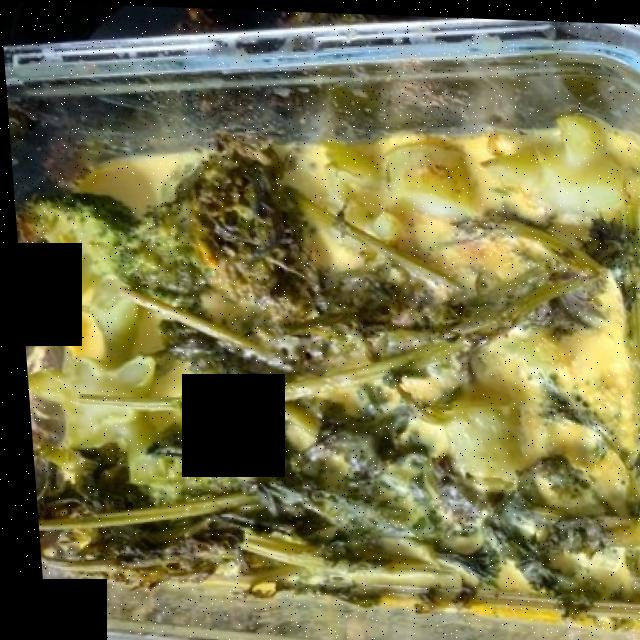broccoli: (39, 160, 640, 587)
egg: (93, 130, 640, 535)
